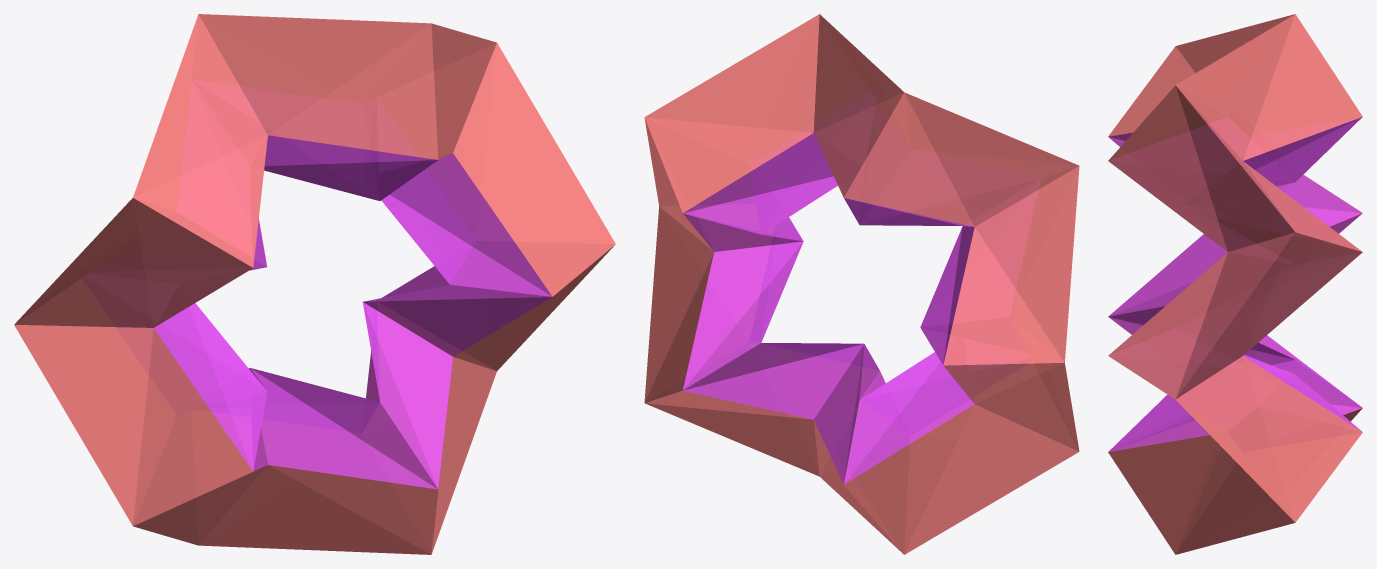
Rendered from Regular10TetragonalToroidSin.obj.
3 renders of one model, left to right at view 1: azimuth 30°, elevation 25°; view 2: azimuth 150°, elevation 25°; view 3: azimuth 270°, elevation 25°, orthographic. The views are drawn at different scales.
Size of the model in its own units: 2.83 by 2.69 by 1.32.
